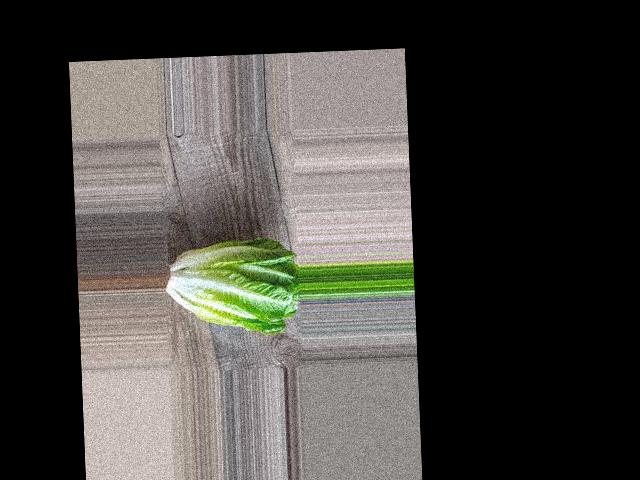lettuce: (170, 232, 293, 330)
